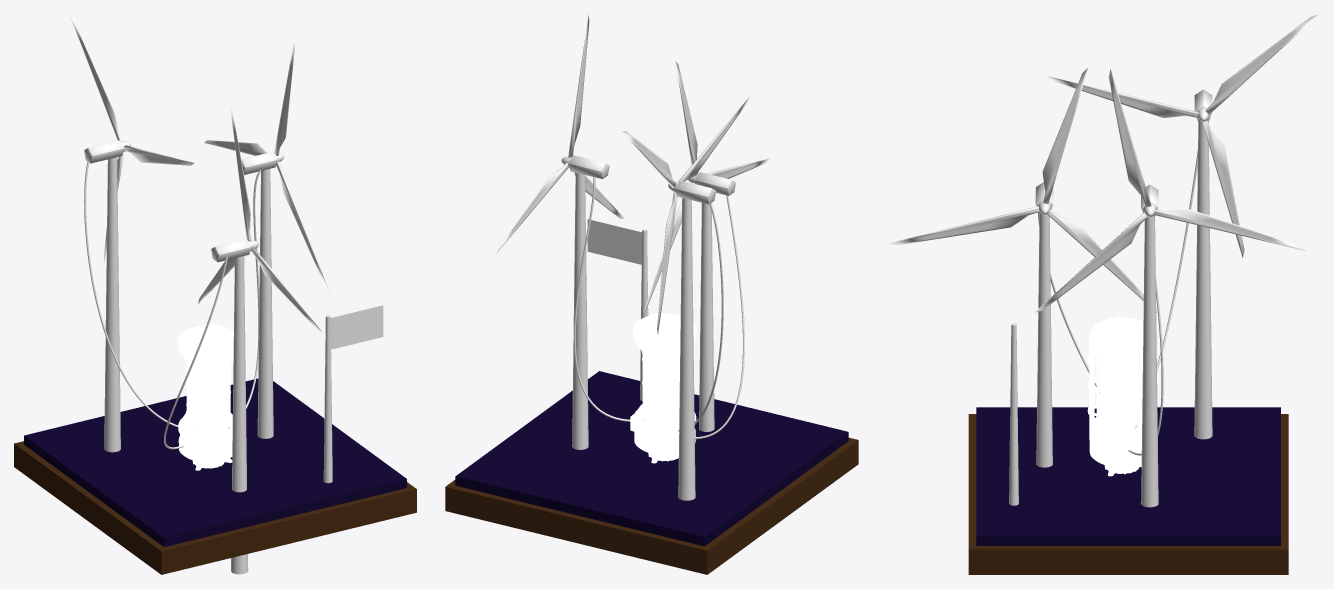
File: germany.glb
The picture shows the model from 3 angles, left to right: view 1: azimuth 30°, elevation 25°; view 2: azimuth 150°, elevation 25°; view 3: azimuth 270°, elevation 25°; orthographic projection. The views are drawn at different scales.
Parts seen in each view (by area): view 1: Cube, Cube.001, Generator, Cylinder.003, Cylinder.004, Cylinder, Plane.003, Plane.002, Plane.005, Plane.001, Cylinder.006, BezierCurve.001 (+5 smaller); view 2: Cube, Cube.001, Generator, Cylinder.003, Cylinder.004, Cylinder, Plane.001, Plane.003, Plane.005, Plane.002, BezierCurve.012, Cylinder.006 (+5 smaller); view 3: Cube, Cube.001, Generator, Cylinder.003, Cylinder.004, Plane.003, Plane.001, Plane.002, Cylinder, Cylinder.006, BezierCurve.001.
Part boxes in pixels (<box>): Cube: <box>24,378,406,547</box>; Cube.001: <box>14,441,416,574</box>; Generator: <box>177,324,233,470</box>; Cylinder.003: <box>104,157,120,452</box>; Cylinder.004: <box>257,169,273,438</box>; Cylinder: <box>231,256,248,574</box>; Plane.003: <box>204,41,328,290</box>; Plane.002: <box>198,101,321,331</box>; Plane.005: <box>330,305,383,349</box>; Plane.001: <box>69,14,193,263</box>; Cylinder.006: <box>323,315,332,483</box>; BezierCurve.001: <box>84,161,196,429</box>; Cube: <box>455,371,848,546</box>; Cube.001: <box>445,437,858,574</box>; Generator: <box>630,312,696,463</box>; Cylinder.003: <box>678,198,695,500</box>; Cylinder.004: <box>572,173,588,449</box>; Cylinder: <box>699,202,714,431</box>; Plane.001: <box>622,96,749,334</box>; Plane.003: <box>497,14,624,252</box>; Plane.005: <box>587,219,641,264</box>; Plane.002: <box>643,61,770,316</box>; BezierCurve.012: <box>573,177,644,421</box>; Cylinder.006: <box>640,228,648,400</box>; Cube: <box>976,407,1280,545</box>; Cube.001: <box>968,414,1288,574</box>; Generator: <box>1087,317,1143,476</box>; Cylinder.003: <box>1194,121,1212,439</box>; Cylinder.004: <box>1141,216,1158,507</box>; Plane.003: <box>1034,69,1305,312</box>; Plane.001: <box>1048,14,1319,257</box>; Plane.002: <box>888,67,1156,312</box>; Cylinder: <box>1036,213,1052,467</box>; Cylinder.006: <box>1009,323,1018,505</box>; BezierCurve.001: <box>1134,150,1197,428</box>.
Bounding box in the file's own units: 3.76 × 6.85 × 5.07.
